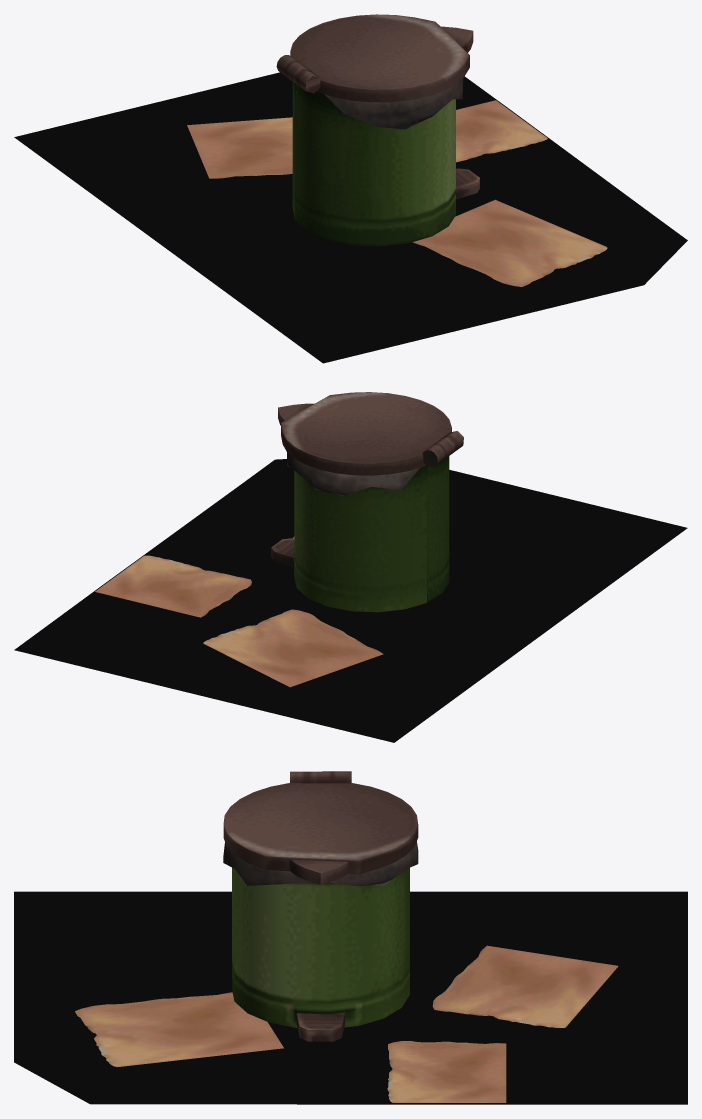
File: K1_oldtrashcan.FBX
3 renders of one model, top to bottom at view 1: azimuth 30°, elevation 25°; view 2: azimuth 150°, elevation 25°; view 3: azimuth 270°, elevation 25°, orthographic. The views are drawn at different scales.
Parts seen in each view (by area): view 1: oldtrashcan_yy, oldtrashcan_01, oldtrashcan_00, oldtrashcan_03, oldtrashcan_02, oldtrashcan_04; view 2: oldtrashcan_yy, oldtrashcan_01, oldtrashcan_00, oldtrashcan_02, oldtrashcan_04; view 3: oldtrashcan_yy, oldtrashcan_01, oldtrashcan_00, oldtrashcan_03, oldtrashcan_02, oldtrashcan_04.
Part boxes in pixels (x1,y1,x2,y2): oldtrashcan_yy: (14, 72, 687, 363); oldtrashcan_01: (292, 78, 479, 246); oldtrashcan_00: (276, 14, 473, 102); oldtrashcan_03: (412, 199, 607, 286); oldtrashcan_02: (187, 117, 292, 178); oldtrashcan_04: (456, 100, 547, 162); oldtrashcan_yy: (14, 459, 687, 742); oldtrashcan_01: (271, 452, 449, 612); oldtrashcan_00: (278, 392, 463, 475); oldtrashcan_02: (203, 609, 383, 687); oldtrashcan_04: (95, 555, 251, 617); oldtrashcan_yy: (14, 891, 687, 1104); oldtrashcan_01: (223, 841, 418, 1041); oldtrashcan_00: (223, 771, 418, 884); oldtrashcan_03: (75, 992, 283, 1066); oldtrashcan_02: (432, 945, 618, 1027); oldtrashcan_04: (387, 1041, 506, 1102).
Bounding box in the file's own units: 50.81 × 20.2 × 67.92.
